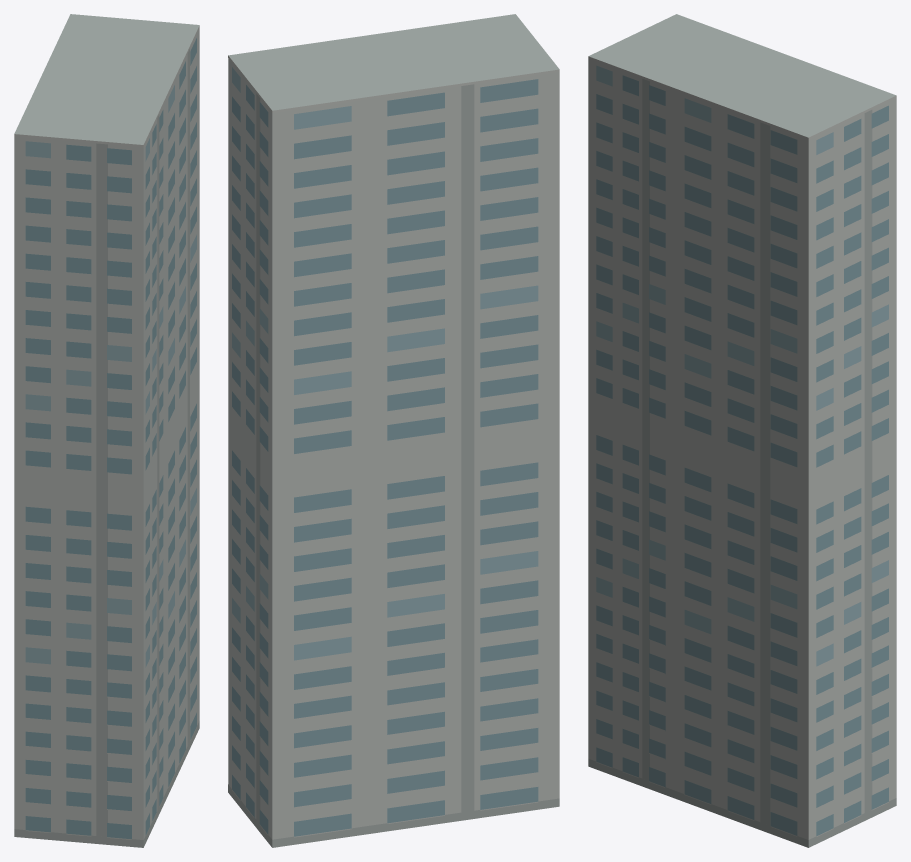
File: residential-4ee88e82-6ba2-462d-af7d-9eda55bb64b6.glb
3 renders of one model, left to right at view 1: azimuth 30°, elevation 25°; view 2: azimuth 150°, elevation 25°; view 3: azimuth 270°, elevation 25°, orthographic. The views are drawn at different scales.
Parts seen in each view (by area): view 1: residential-4ee88e82-6ba2-462d-af7d-9eda55bb64b6.tmp; view 2: residential-4ee88e82-6ba2-462d-af7d-9eda55bb64b6.tmp; view 3: residential-4ee88e82-6ba2-462d-af7d-9eda55bb64b6.tmp.
Part boxes in pixels (x1=…): residential-4ee88e82-6ba2-462d-af7d-9eda55bb64b6.tmp: x1=14, y1=14, x2=199, y2=847; residential-4ee88e82-6ba2-462d-af7d-9eda55bb64b6.tmp: x1=228, y1=14, x2=559, y2=847; residential-4ee88e82-6ba2-462d-af7d-9eda55bb64b6.tmp: x1=588, y1=14, x2=896, y2=847.
Size of the model in its own units: 26.52 by 71 by 27.94.
